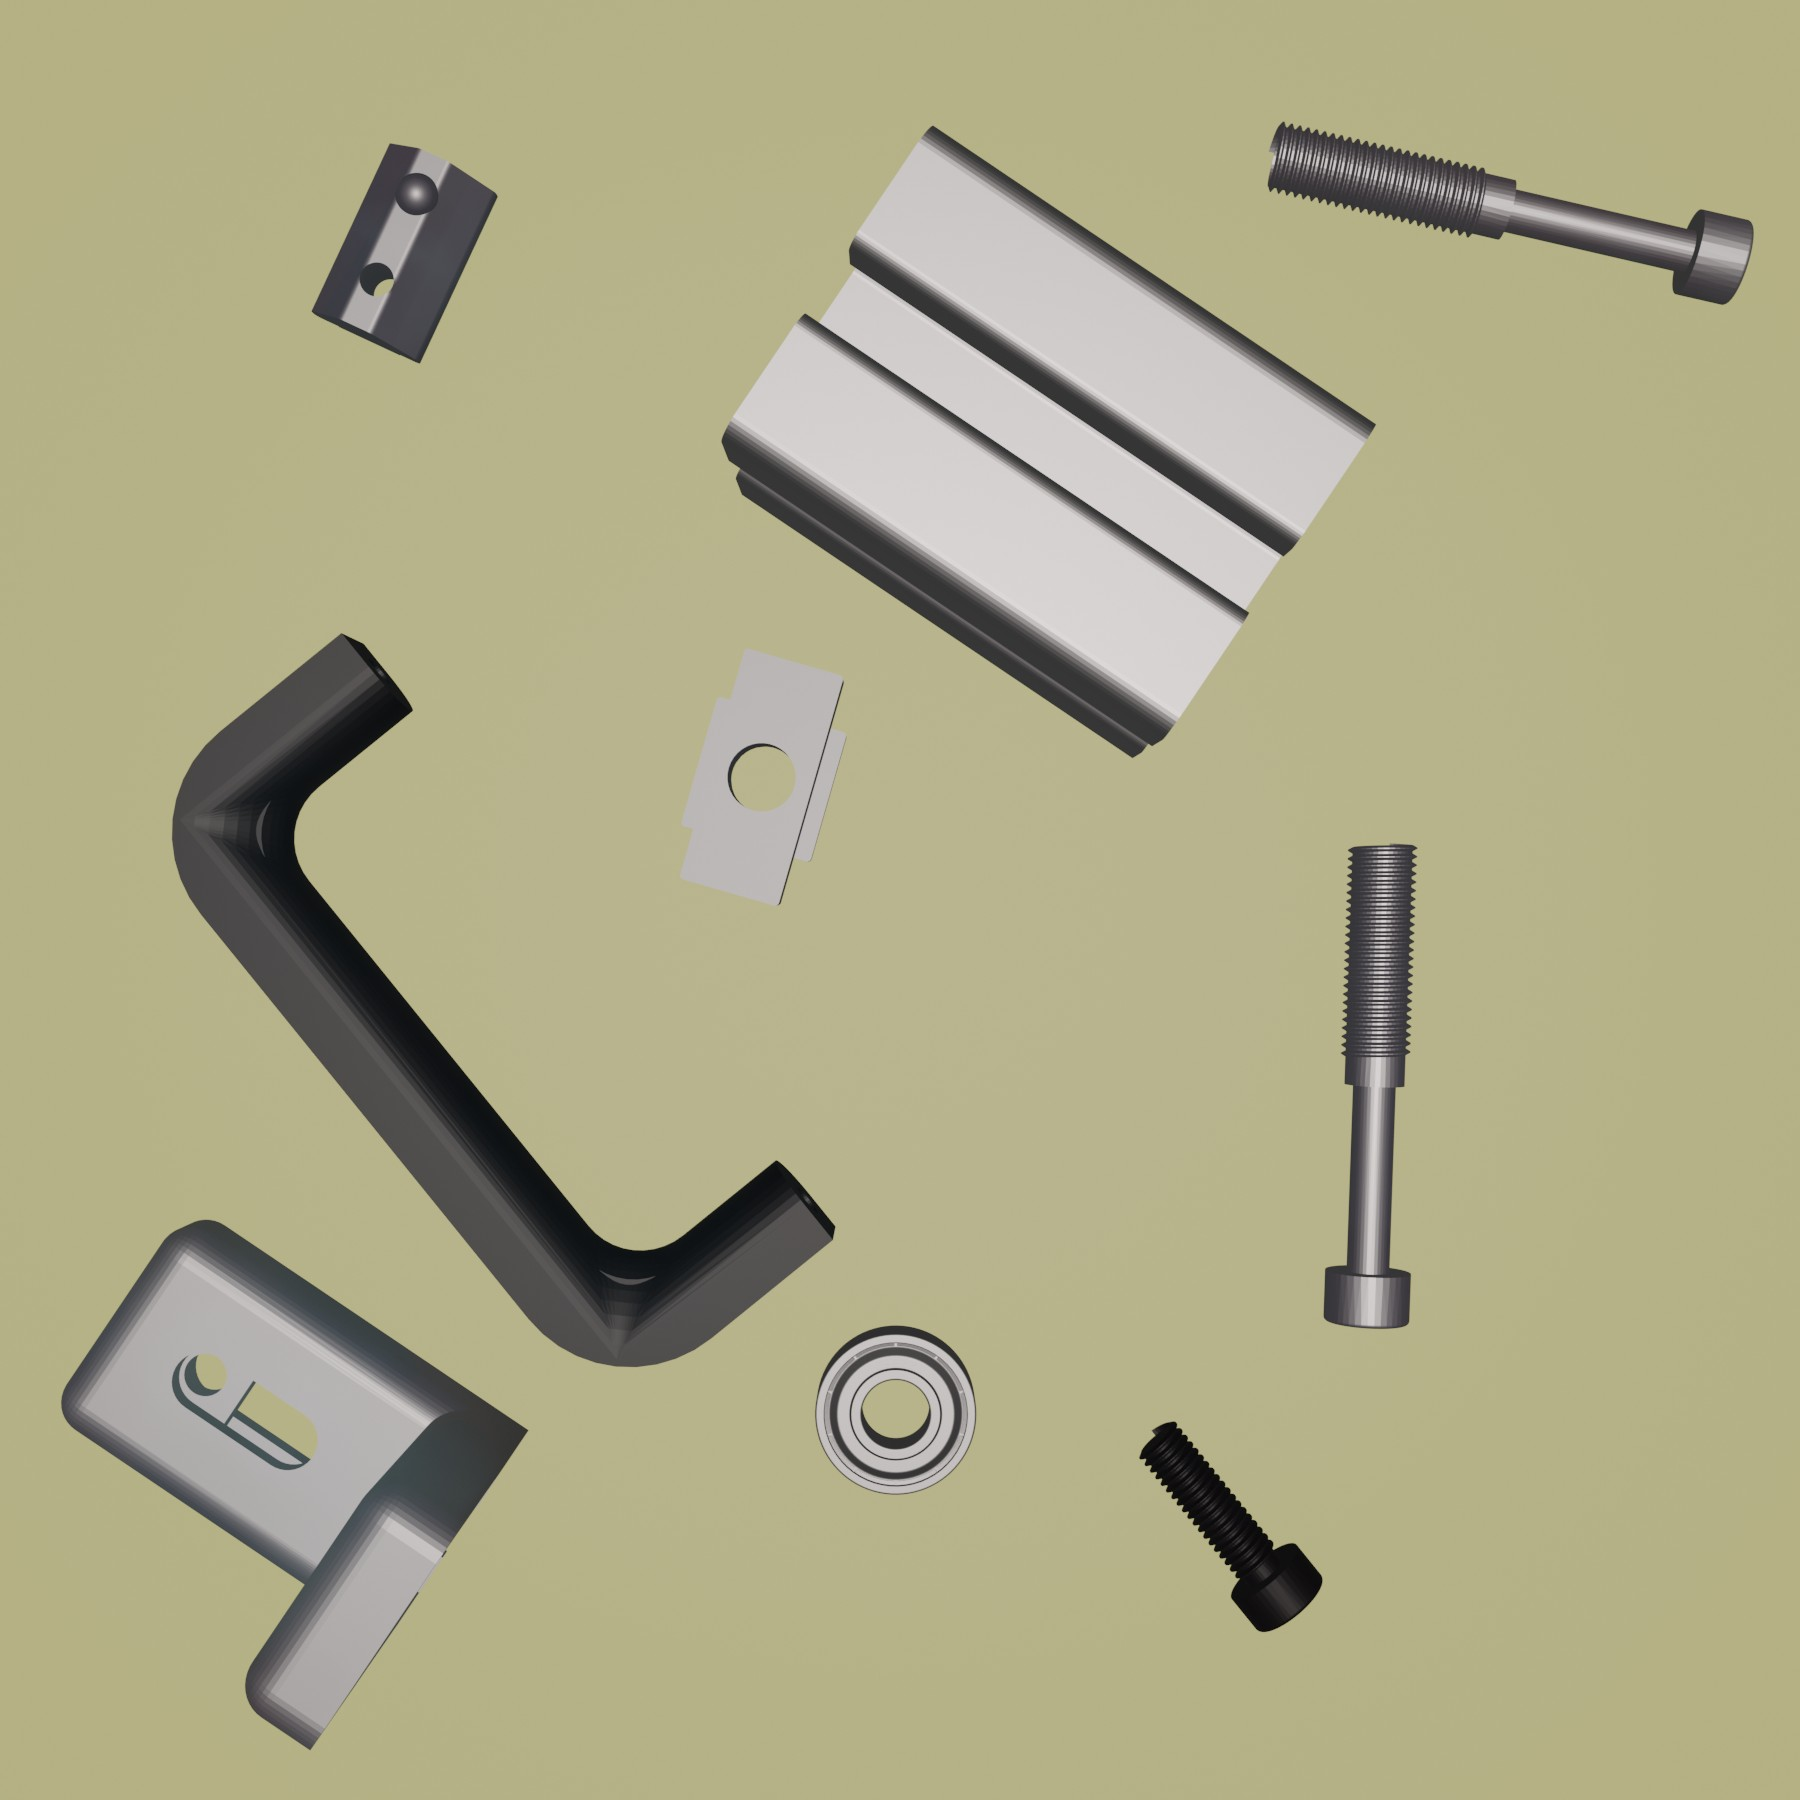Aluminium Extension: (719, 119, 1380, 762)
Ball Bearing: (811, 1322, 977, 1497)
Multiwinkel: (61, 1215, 529, 1752)
Pull Handle: (170, 630, 836, 1370)
Shoulder Socket Head Cap Screw: (1263, 119, 1755, 308), (1317, 841, 1419, 1334)
Socket Head Cap Screw: (1139, 1419, 1327, 1634)
T Nut Square: (673, 641, 851, 912)
T Spring Nut: (312, 142, 501, 366)
